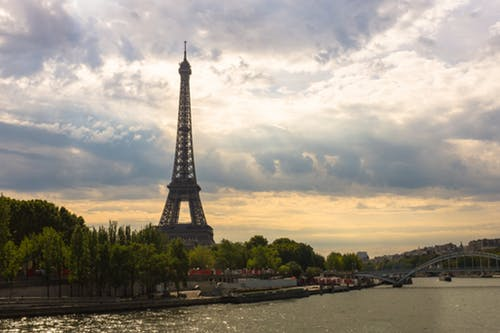eiffel tower: (150, 35, 223, 257)
